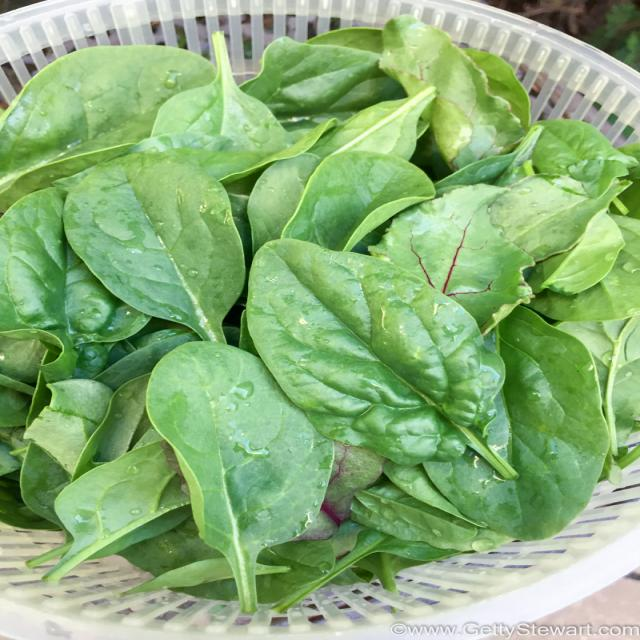spinach: (72, 161, 246, 308), (504, 326, 604, 542), (254, 239, 384, 402), (178, 446, 328, 537), (282, 153, 436, 240), (144, 344, 270, 446), (154, 83, 281, 140)
